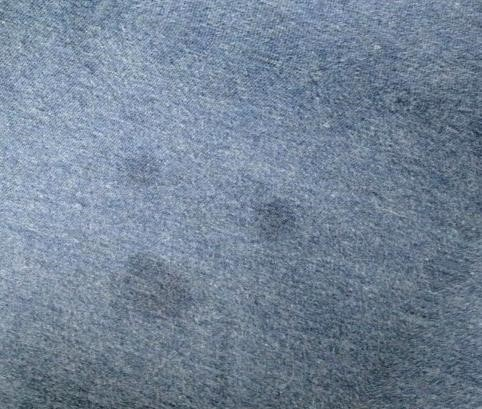stain: (117, 249, 200, 327), (254, 193, 308, 251), (114, 146, 169, 191)
